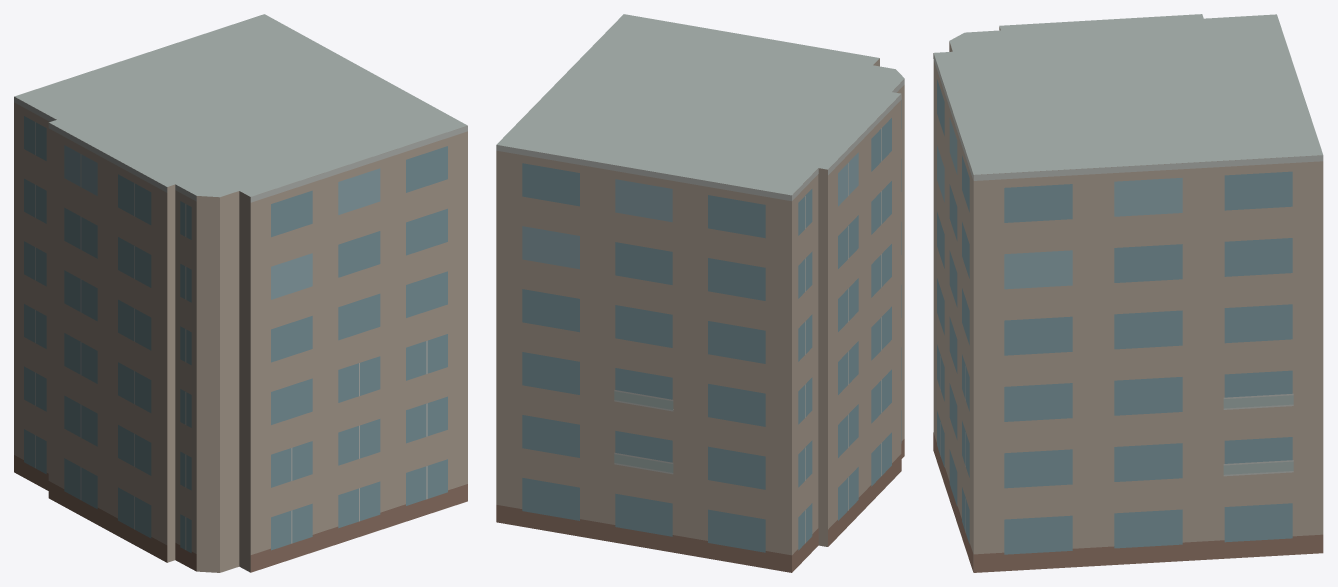
File: survey-upis-32660631.glb
The picture shows the model from 3 angles, left to right: view 1: azimuth 30°, elevation 25°; view 2: azimuth 150°, elevation 25°; view 3: azimuth 270°, elevation 25°; orthographic projection. The views are drawn at different scales.
Visible parts, largest first — view 1: survey-upis-32660631.tmp; view 2: survey-upis-32660631.tmp; view 3: survey-upis-32660631.tmp.
Boxes of the visible parts, bbox=[...] form: survey-upis-32660631.tmp: bbox=[14, 14, 467, 572]; survey-upis-32660631.tmp: bbox=[496, 14, 904, 572]; survey-upis-32660631.tmp: bbox=[933, 14, 1323, 572].
Bounding box in the file's own units: 13.71 × 15.8 × 14.03.
